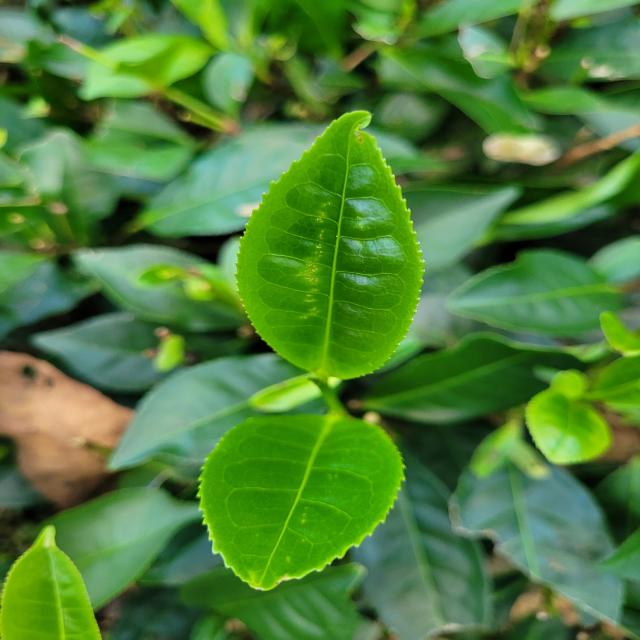Catagory A(1-2 days): (224, 98, 430, 390)
